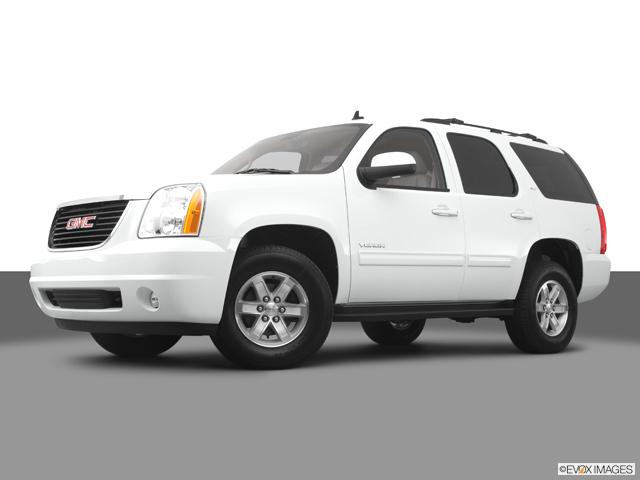GMC: (56, 213, 104, 234)
